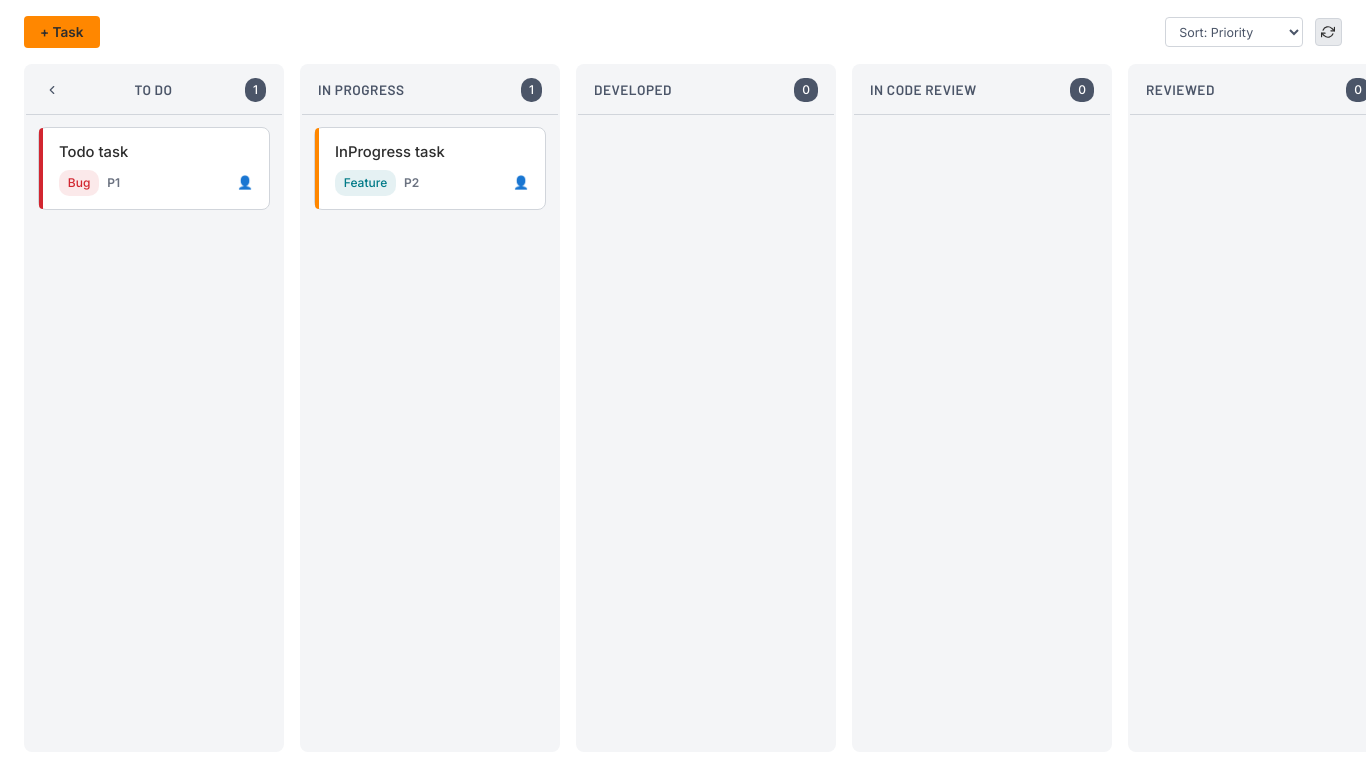
Test case: Kanban collapsible To Do / Done columns › toggle reflects state via aria-expanded and aria-label
Click the button with class "column-collapse-toggle" at (52, 90), box [42,80,62,100]
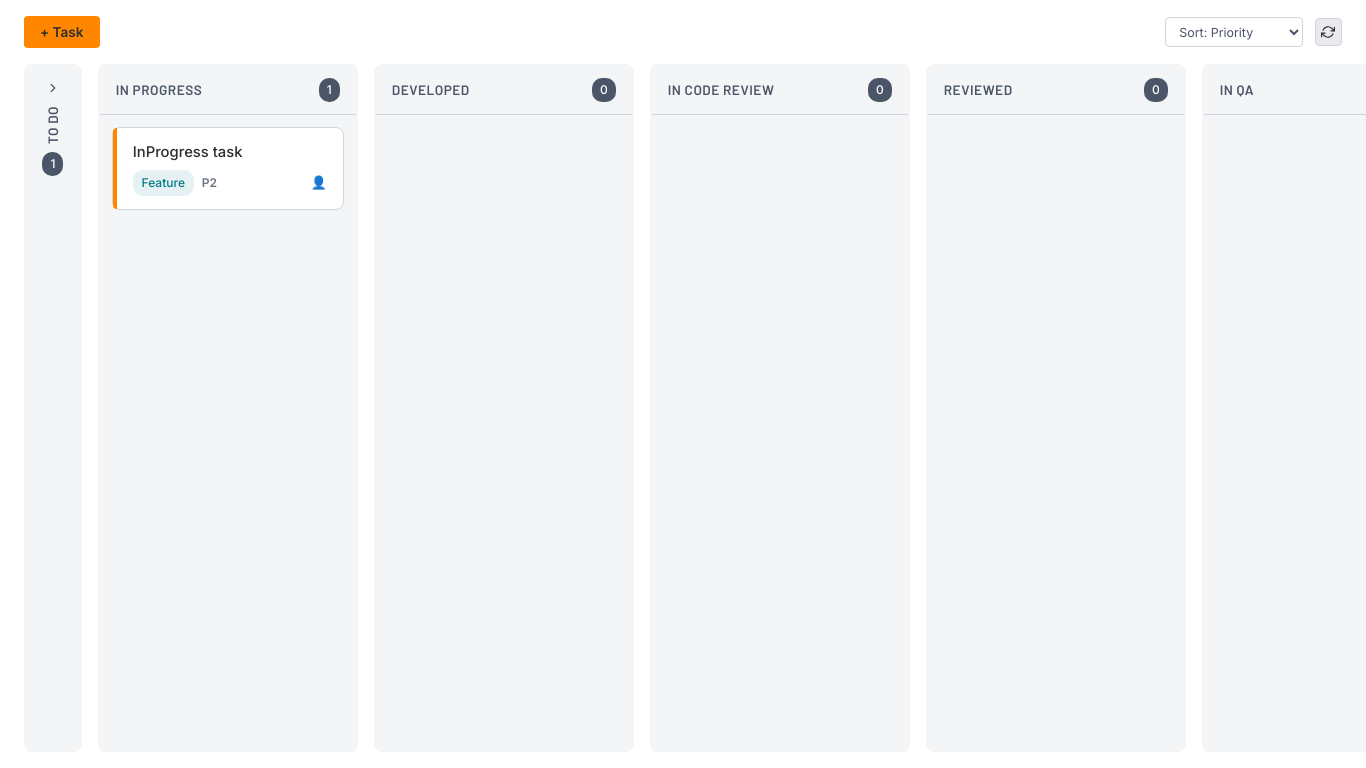
Expected: the button with class "column-collapse-toggle" is collapsed, [43,78,63,98]
